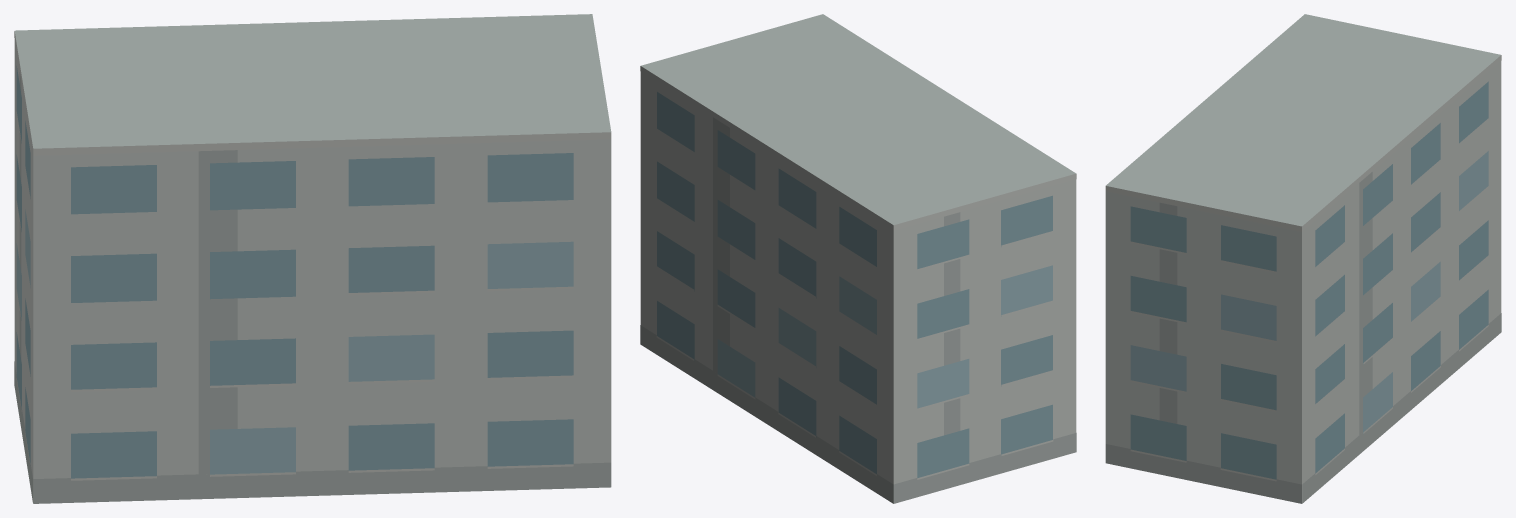
Rendered from residential-018a6520-ba8e-4432-a613-0e96d9cc5dc6.glb.
3 renders of one model, left to right at view 1: azimuth 30°, elevation 25°; view 2: azimuth 150°, elevation 25°; view 3: azimuth 270°, elevation 25°, orthographic. The views are drawn at different scales.
Parts seen in each view (by area): view 1: residential-018a6520-ba8e-4432-a613-0e96d9cc5dc6.tmp; view 2: residential-018a6520-ba8e-4432-a613-0e96d9cc5dc6.tmp; view 3: residential-018a6520-ba8e-4432-a613-0e96d9cc5dc6.tmp.
Part boxes in pixels (left/top/right/bottom): residential-018a6520-ba8e-4432-a613-0e96d9cc5dc6.tmp: left=14, top=14, right=611, bottom=503; residential-018a6520-ba8e-4432-a613-0e96d9cc5dc6.tmp: left=640, top=14, right=1076, bottom=503; residential-018a6520-ba8e-4432-a613-0e96d9cc5dc6.tmp: left=1105, top=14, right=1501, bottom=503.
Size of the model in its own units: 19.72 by 12 by 15.53.
